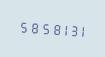eight: (47, 19, 56, 37), (27, 18, 36, 35)
five: (17, 17, 26, 35), (37, 18, 46, 36)
one: (77, 21, 86, 39), (57, 20, 66, 37)
three: (67, 21, 76, 38)
